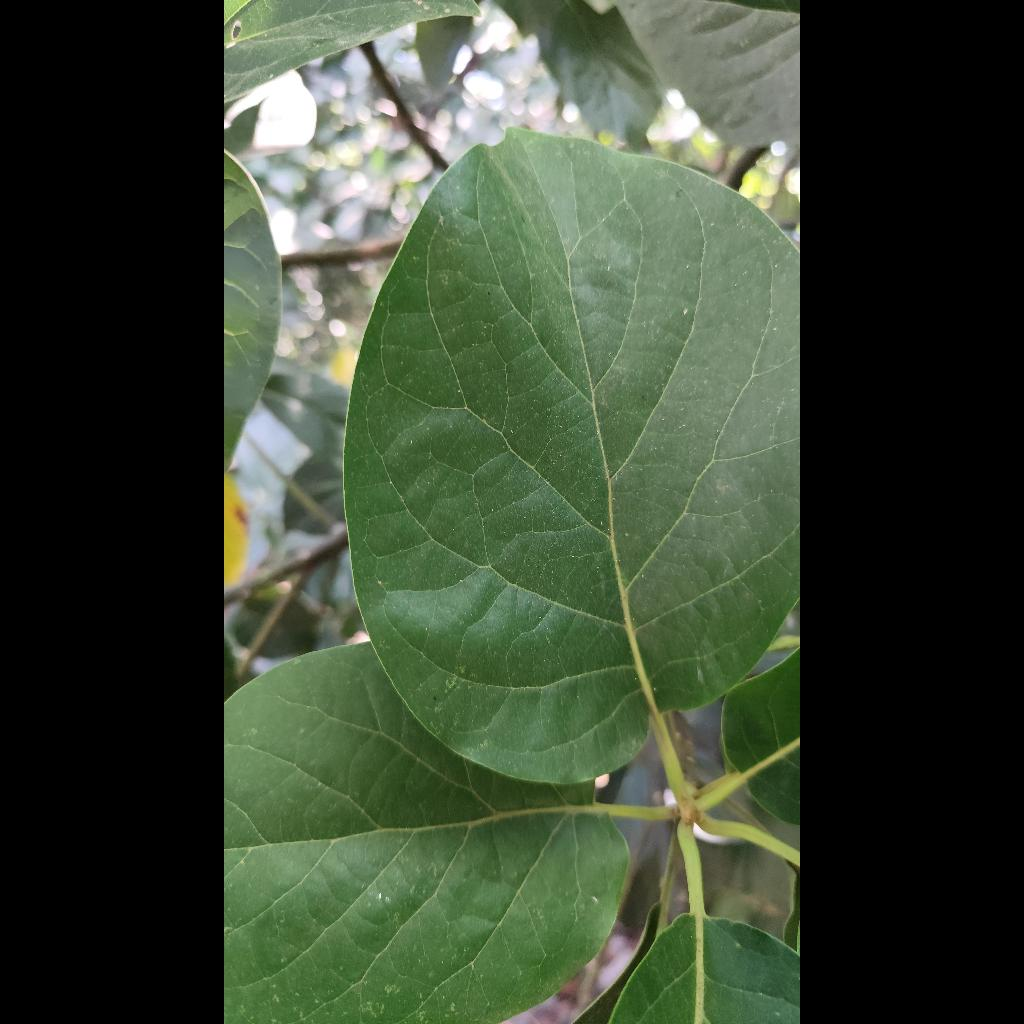Healthy: (344, 129, 800, 783), (224, 644, 628, 1024)
